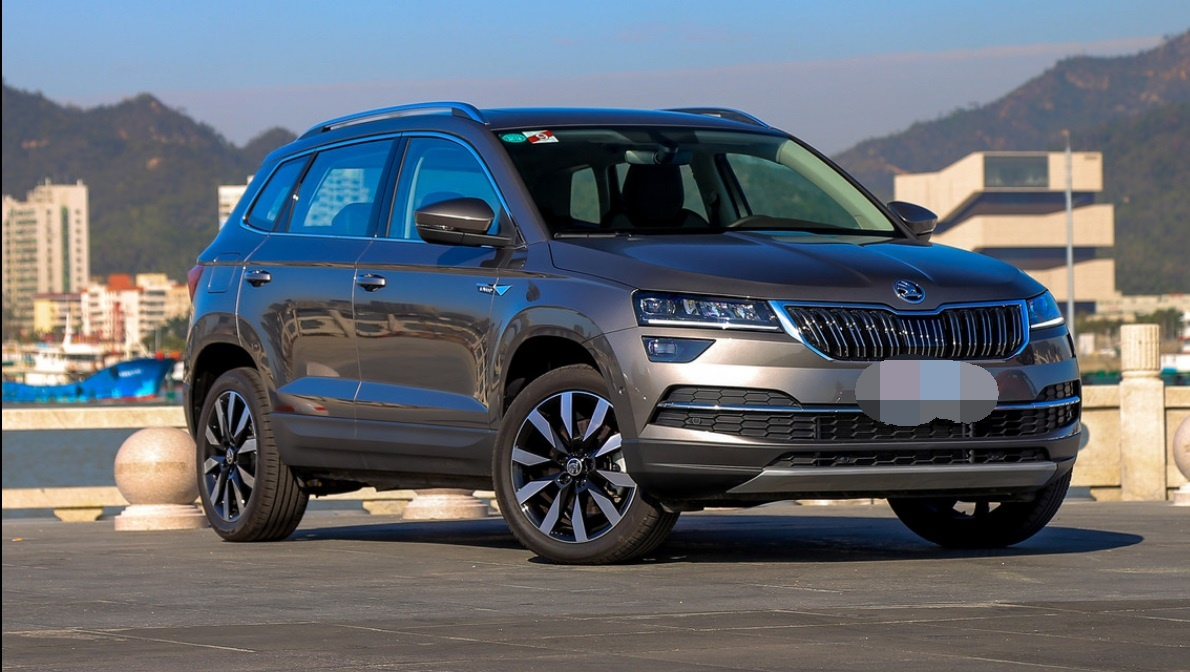SUV: (167, 93, 1090, 564)
